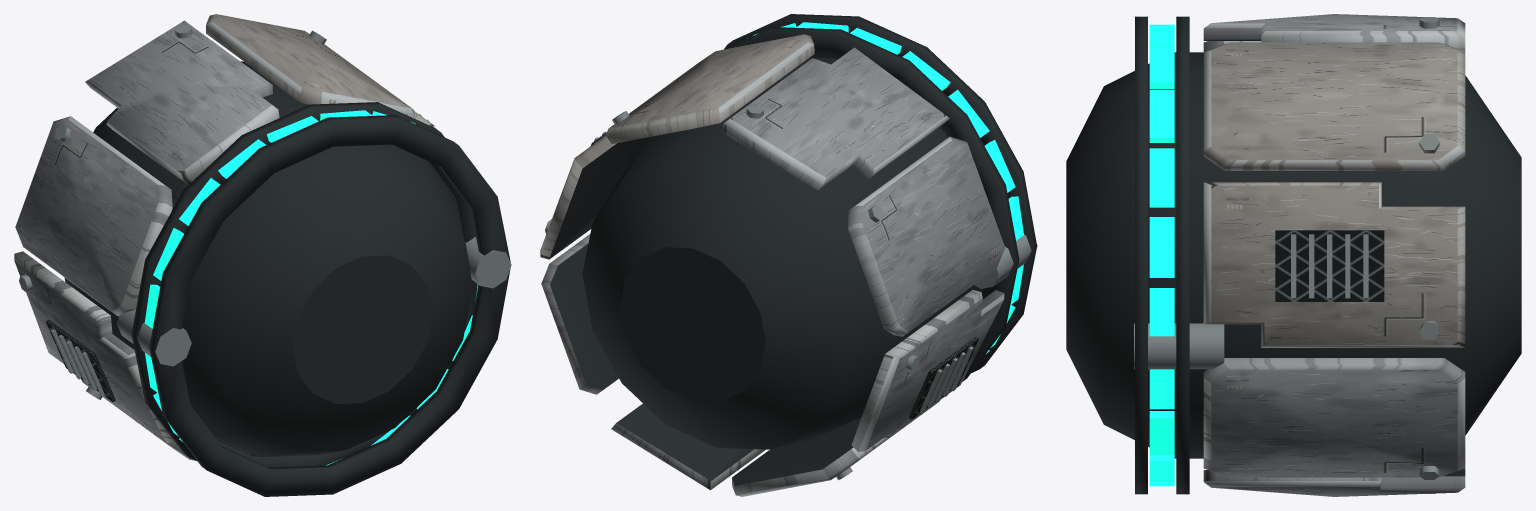
The model's file is snake_segment.glb.
3 renders of one model, left to right at view 1: azimuth 30°, elevation 25°; view 2: azimuth 150°, elevation 25°; view 3: azimuth 270°, elevation 25°, orthographic. The views are drawn at different scales.
Parts seen in each view (by area): view 1: Segment; view 2: Segment; view 3: Segment.
Part boxes in pixels (left/top/right/bottom): Segment: left=14, top=14, right=511, bottom=496; Segment: left=540, top=14, right=1037, bottom=496; Segment: left=1066, top=14, right=1521, bottom=496.
Size of the model in its own units: 1.31 by 1.31 by 1.21.
6 materials, 2 textured.
